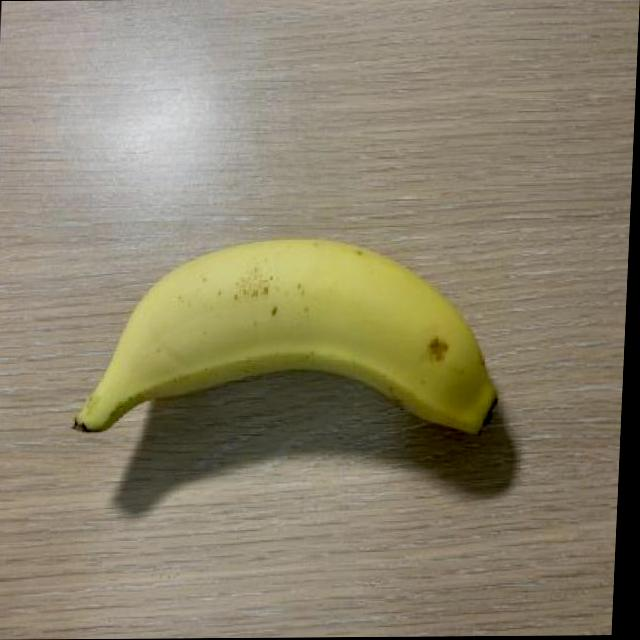banana: (68, 223, 505, 441)
